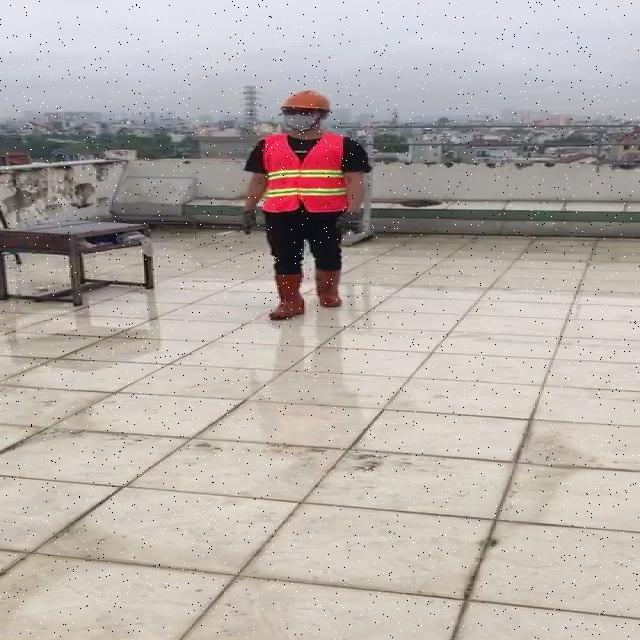Hard_hat: (277, 88, 338, 119)
Vest: (260, 128, 348, 215)
